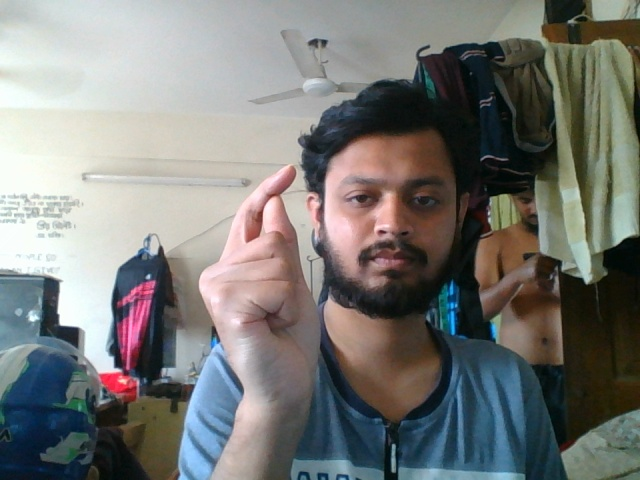tha: (189, 158, 331, 454)
